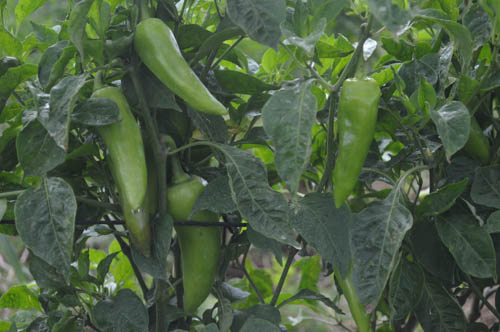ChiliPepper: (135, 20, 230, 122), (164, 178, 220, 313), (90, 88, 147, 209), (335, 78, 380, 206), (122, 205, 150, 254)
